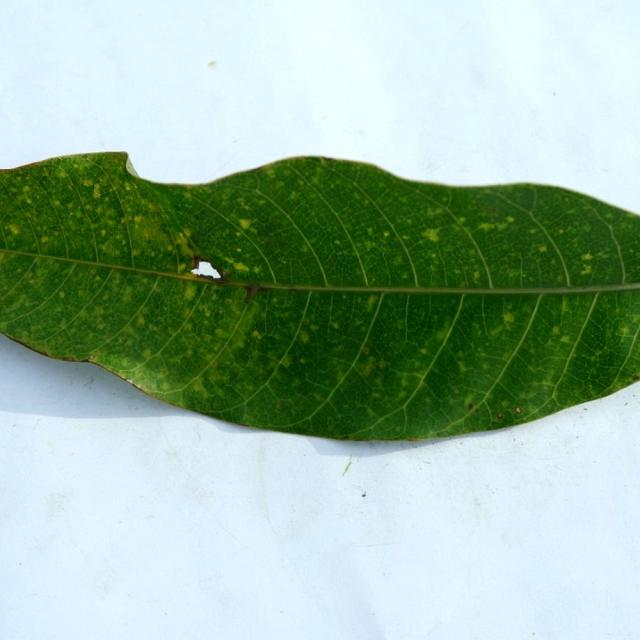Mango: (0, 152, 639, 440)
Powdery_Mildew: (418, 221, 442, 244), (476, 219, 512, 233), (562, 223, 583, 238), (359, 356, 377, 372), (140, 226, 159, 241), (178, 230, 194, 246), (278, 353, 293, 368), (191, 377, 206, 392), (364, 295, 378, 311), (427, 206, 445, 217), (507, 268, 525, 279), (560, 298, 572, 314), (580, 262, 594, 275), (238, 219, 253, 230), (436, 330, 449, 342), (184, 286, 196, 299), (464, 396, 476, 409), (502, 311, 514, 323), (8, 224, 20, 236), (400, 375, 412, 387), (238, 198, 251, 209), (235, 263, 249, 273), (298, 330, 309, 342), (456, 360, 467, 372), (214, 328, 227, 338), (102, 243, 114, 253), (364, 241, 376, 250), (619, 326, 631, 335), (93, 185, 101, 198), (251, 330, 262, 339), (123, 290, 132, 301), (366, 407, 377, 416), (581, 253, 593, 261), (133, 215, 143, 224), (136, 316, 145, 326), (142, 349, 152, 358), (537, 245, 548, 253), (552, 326, 561, 335), (560, 335, 570, 343), (396, 321, 405, 329), (311, 176, 320, 184), (505, 216, 515, 223), (473, 271, 480, 281), (419, 348, 429, 355), (41, 236, 49, 244), (178, 263, 186, 271), (84, 180, 93, 187), (366, 227, 374, 234), (429, 252, 437, 259), (132, 250, 140, 257), (458, 217, 467, 223), (605, 213, 614, 219), (332, 322, 339, 329), (23, 186, 30, 193), (53, 200, 60, 207), (300, 357, 307, 364), (363, 347, 370, 354), (235, 231, 243, 237), (383, 231, 390, 237), (402, 235, 409, 241), (59, 291, 65, 298), (334, 239, 341, 245), (402, 274, 409, 280), (101, 230, 107, 236), (125, 186, 131, 192)
